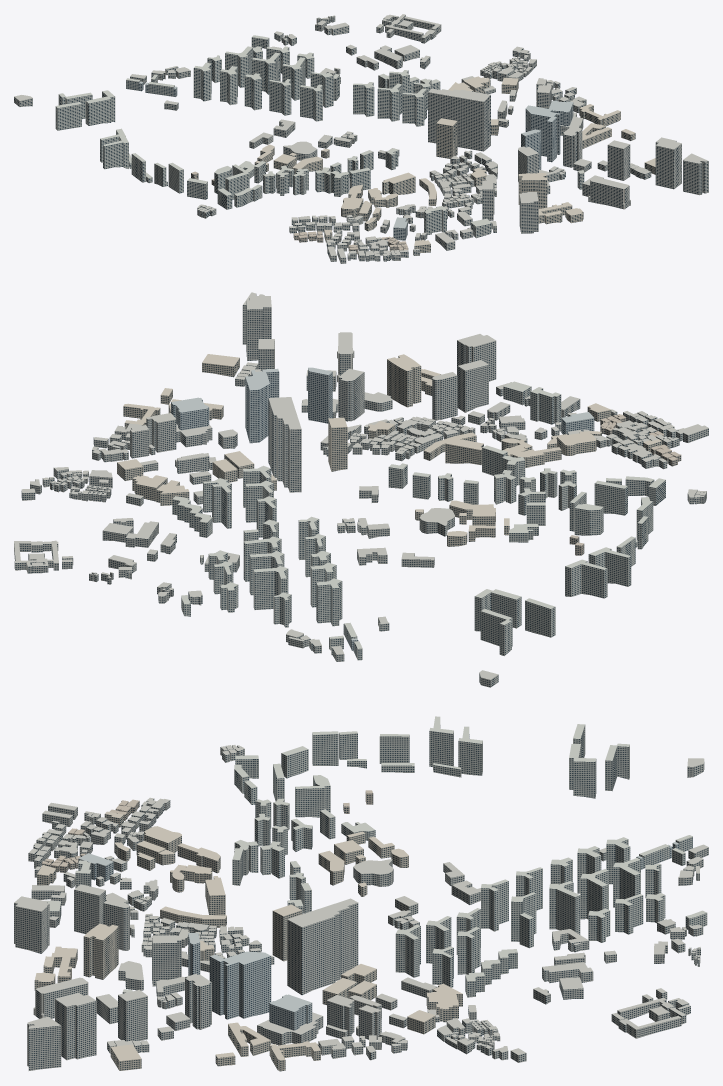
File: city_-5_-3.glb
3 renders of one model, top to bottom at view 1: azimuth 30°, elevation 25°; view 2: azimuth 150°, elevation 25°; view 3: azimuth 270°, elevation 25°, orthographic. The views are drawn at different scales.
Size of the model in its own units: 1061 by 117 by 1044.
5 materials, 5 textured.
